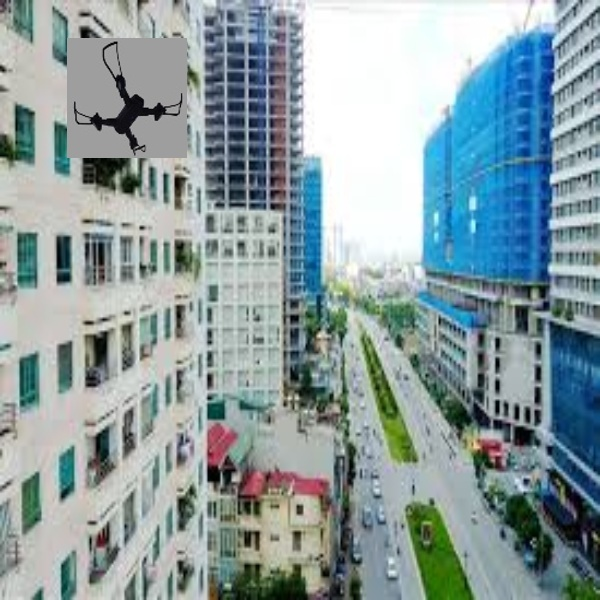drone: (69, 40, 186, 152)
